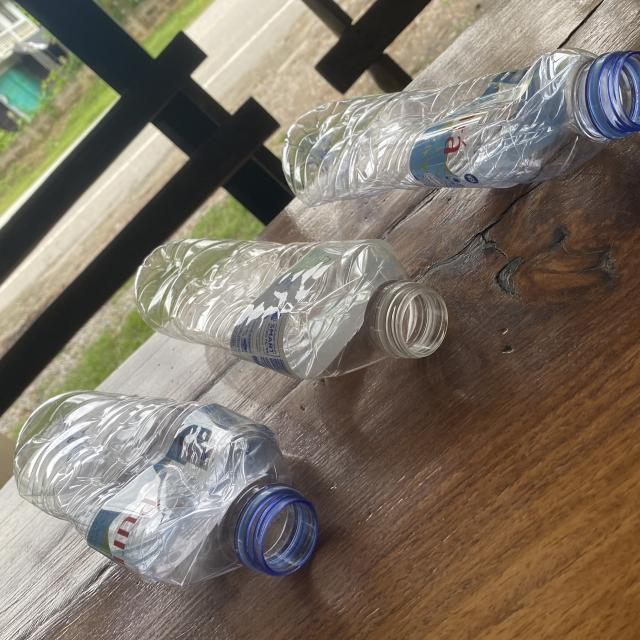plastik: (14, 391, 319, 585), (282, 49, 640, 206), (135, 240, 447, 379)
